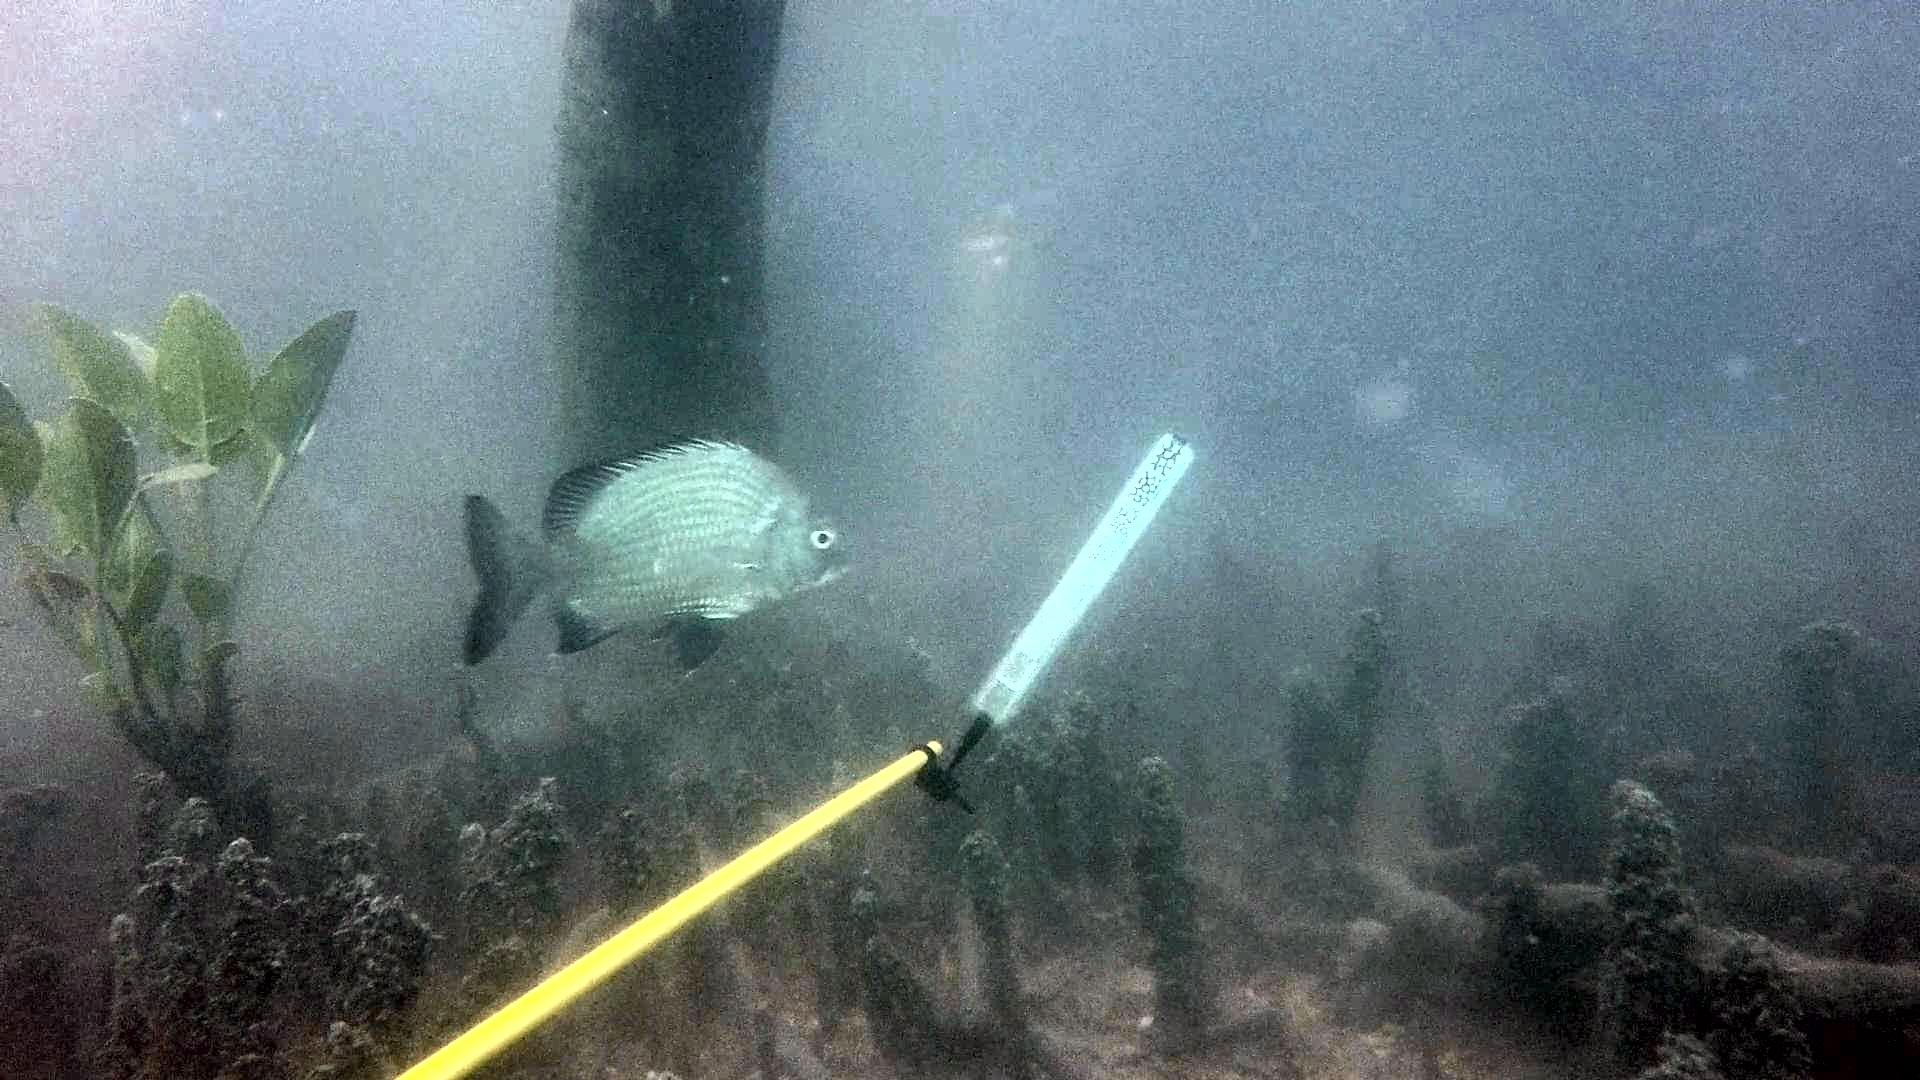acanthopagrus palmaris: (443, 421, 866, 686)
